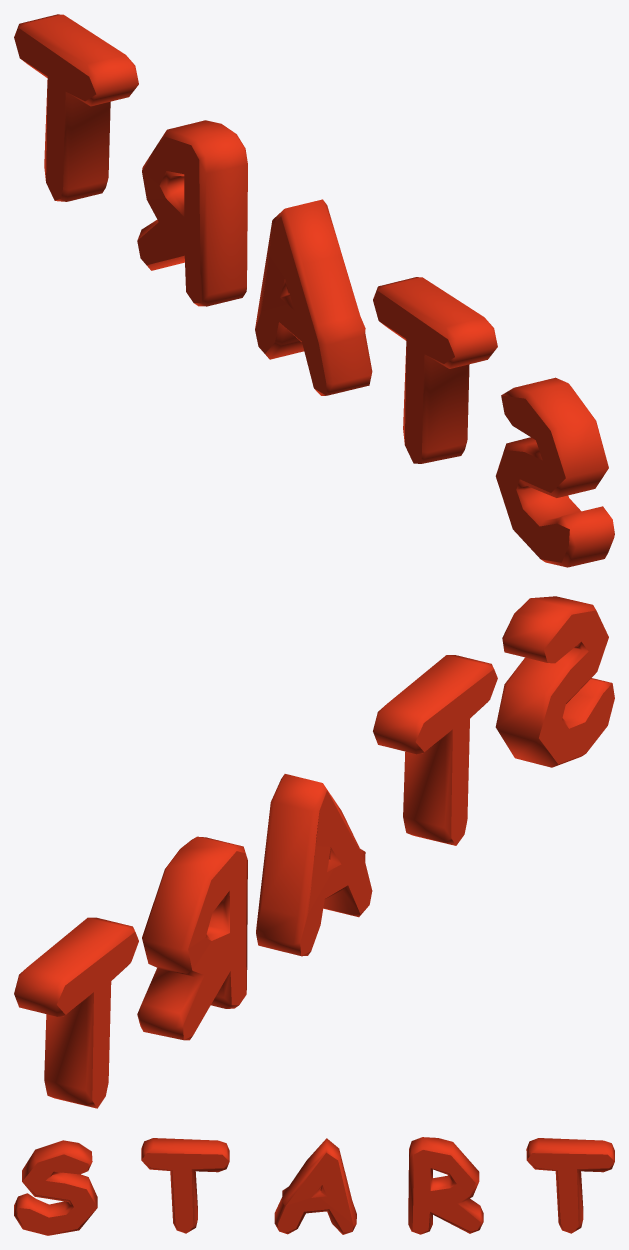
The model's file is START.fbx.
The picture shows the model from 3 angles, top to bottom: view 1: azimuth 30°, elevation 25°; view 2: azimuth 150°, elevation 25°; view 3: azimuth 270°, elevation 25°; orthographic projection. The views are drawn at different scales.
Parts seen in each view (by area): view 1: Text; view 2: Text; view 3: Text.
Boxes of the visible parts, x1,y1,x2,y2 form: Text: (14, 14, 614, 567); Text: (14, 596, 614, 1108); Text: (14, 1137, 614, 1235).
Bounding box in the file's own units: 18.03 × 61.42 × 374.
